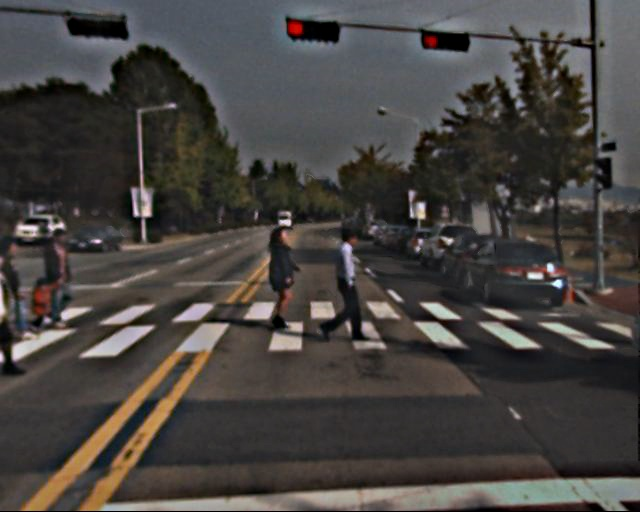person: (326, 232, 371, 342), (260, 226, 303, 330), (39, 227, 81, 330), (1, 236, 33, 364)
